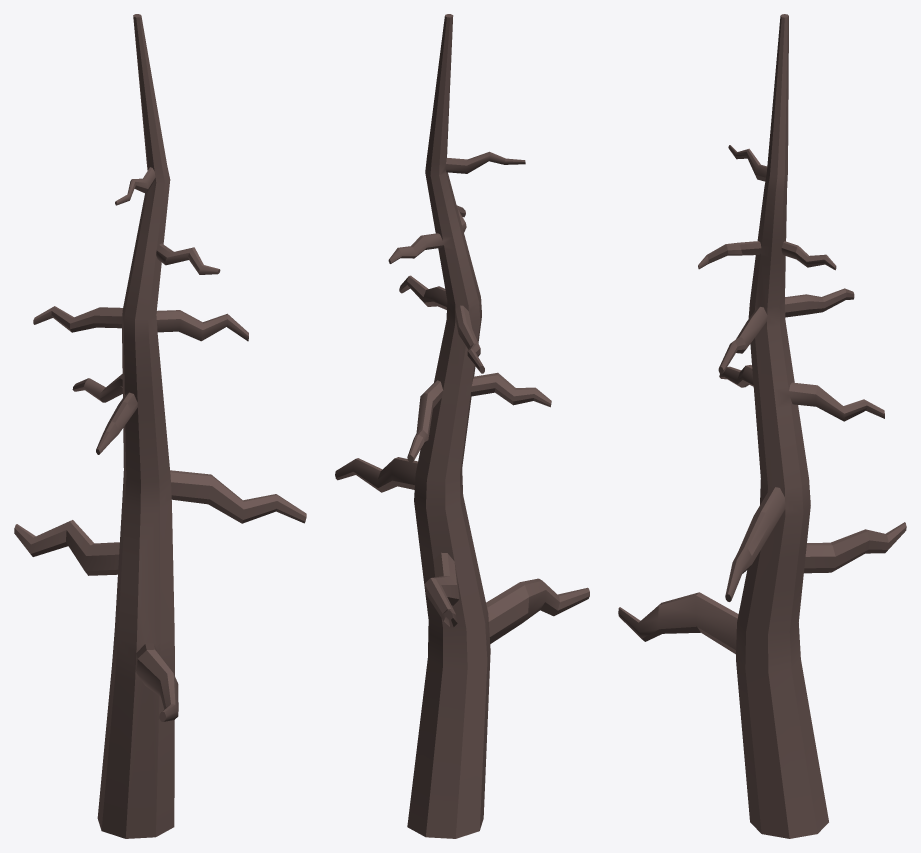
Rendered from dever1.fbx.
3 renders of one model, left to right at view 1: azimuth 30°, elevation 25°; view 2: azimuth 150°, elevation 25°; view 3: azimuth 270°, elevation 25°, orthographic.
Visible parts, largest first — view 1: Trunk.002; view 2: Trunk.002; view 3: Trunk.002.
Boxes of the visible parts, left/top/right/bottom form: Trunk.002: left=14, top=14, right=306, bottom=838; Trunk.002: left=335, top=14, right=589, bottom=838; Trunk.002: left=618, top=14, right=906, bottom=838.
Size of the model in its own units: 0.564 by 2.04 by 0.6624.
